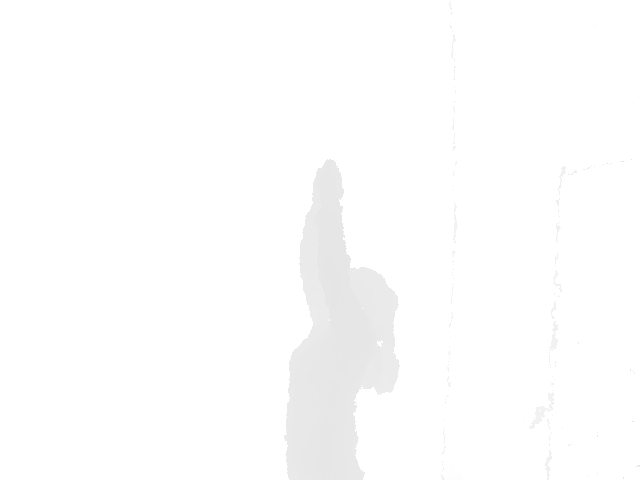hand: (312, 158, 345, 202)
head: (327, 266, 400, 342)
person: (283, 158, 402, 480)
